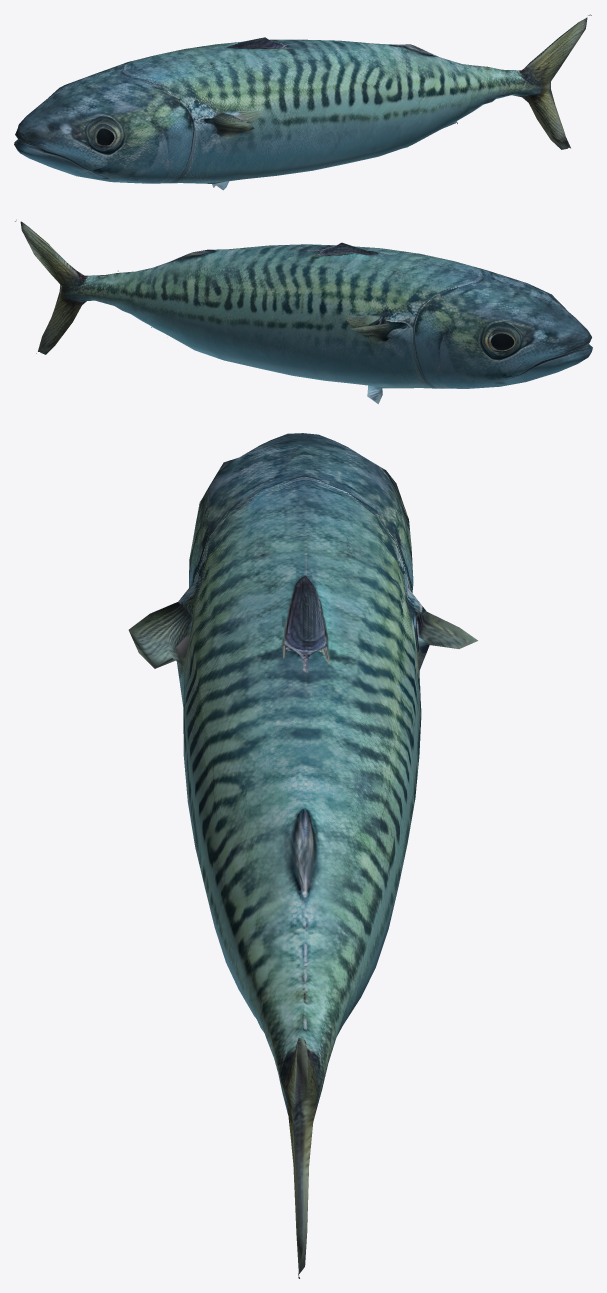
File: godeungeo.glb
3 renders of one model, top to bottom at view 1: azimuth 30°, elevation 25°; view 2: azimuth 150°, elevation 25°; view 3: azimuth 270°, elevation 25°, orthographic. The views are drawn at different scales.
Parts seen in each view (by area): view 1: tripo_node_e8f34786; view 2: tripo_node_e8f34786; view 3: tripo_node_e8f34786.
Part boxes in pixels (left/top/right/bottom): tripo_node_e8f34786: left=14, top=14, right=591, bottom=190; tripo_node_e8f34786: left=15, top=219, right=592, bottom=404; tripo_node_e8f34786: left=128, top=433, right=477, bottom=1278.
Bounding box in the file's own units: 97.79 × 30.18 × 25.69.
1 material, 1 textured.
